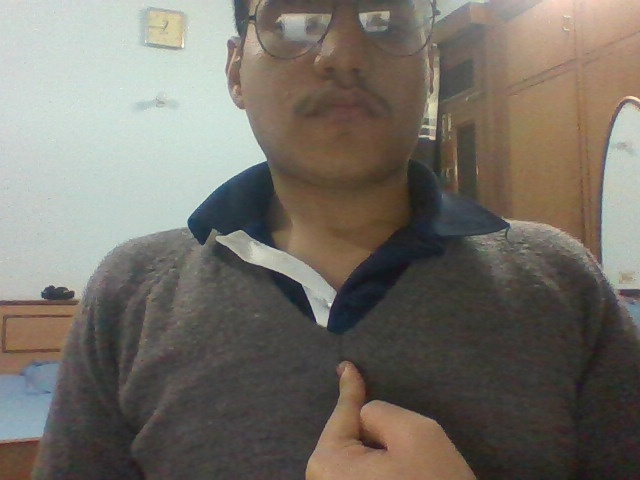I: (285, 352, 503, 480)
